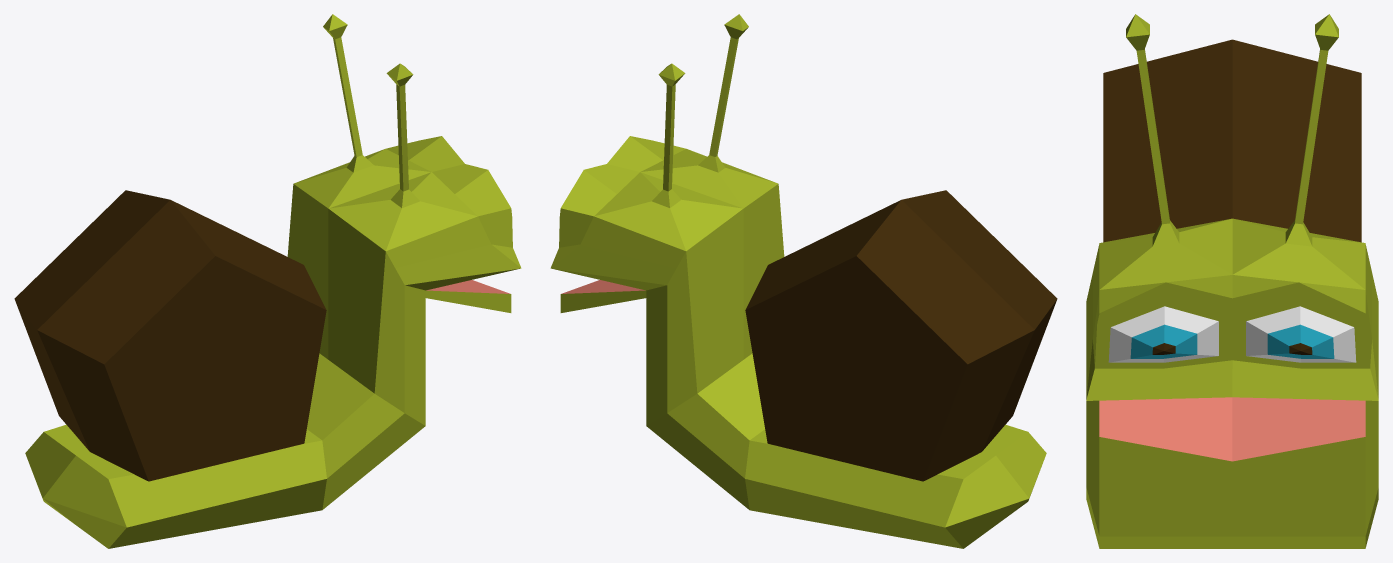
File: snail.fbx
The picture shows the model from 3 angles, left to right: view 1: azimuth 30°, elevation 25°; view 2: azimuth 150°, elevation 25°; view 3: azimuth 270°, elevation 25°; orthographic projection. The views are drawn at different scales.
Parts seen in each view (by area): view 1: Esfera UV, Esfera UV.001; view 2: Esfera UV, Esfera UV.001; view 3: Esfera UV, Esfera UV.001.
Boxes of the visible parts, x1,y1,x2,y2 form: Esfera UV: (25,14,521,548); Esfera UV.001: (14,190,326,481); Esfera UV: (550,14,1046,548); Esfera UV.001: (745,190,1057,481); Esfera UV: (1086,14,1378,548); Esfera UV.001: (1103,39,1361,242).
Bounding box in the file's own units: 4 × 3.57 × 1.58.
